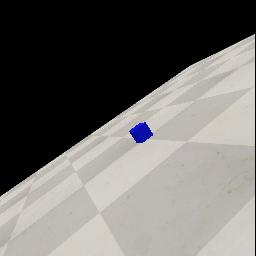box: (129, 122, 153, 143)
